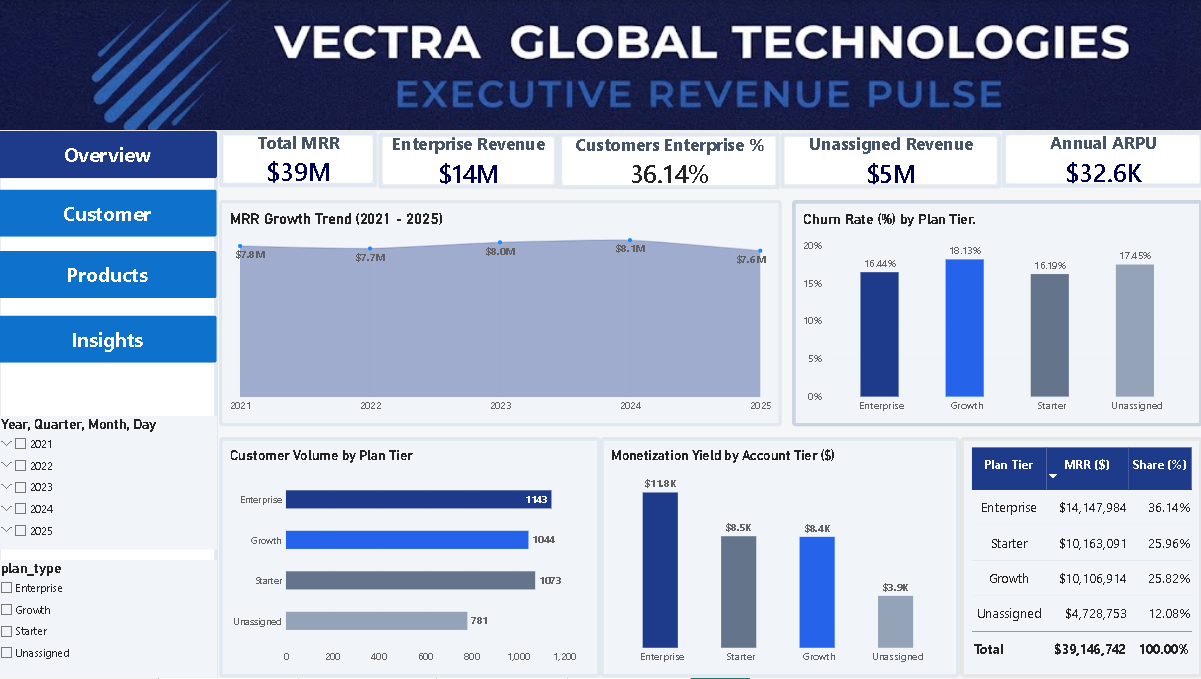

Layout of this report page (visuals, bound fields, positions):
{"tool":"powerbi","page":{"name":"Overview","canvas":[2560,1440],"ordinal":0},"visuals":[{"type":"cardVisual","fields":{"Data":["_Measures.Total MRR"]},"box":[470,280,336.7,120],"z":0},{"type":"cardVisual","fields":{"Data":["_Measures.Enterprise Customers"]},"box":[806.7,283.3,383.3,120],"z":1000},{"type":"cardVisual","fields":{"Data":["_Measures.Unassigned"]},"box":[1660,283.3,470,120],"z":2000},{"type":"image","box":[0,0,2560,280],"z":3000},{"type":"shape","box":[0,280,468.7,1160.3],"z":4000},{"type":"slicer","fields":{"Values":["vectra_analytics fact_subscriptions.signup_date.Variation.Date Hierarchy.Year","vectra_analytics fact_subscriptions.signup_date.Variation.Date Hierarchy.Quarter","vectra_analytics fact_subscriptions.signup_date.Variation.Date Hierarchy.Month","vectra_analytics fact_subscriptions.signup_date.Variation.Date Hierarchy.Day"]},"box":[0,883.3,466.7,283.3],"z":5000},{"type":"slicer","fields":{"Values":["vectra_analytics fact_subscriptions.plan_type"]},"box":[0,1190,466.7,250],"z":6000},{"type":"actionButton","box":[0,280,466.7,100],"z":7000},{"type":"actionButton","box":[0,403.3,466,100],"z":8000},{"type":"actionButton","box":[0,533.3,466,100],"z":9000},{"type":"actionButton","box":[0,670,466,100],"z":10000},{"type":"stackedAreaChart","title":"MRR Growth Trend (2021 - 2025)","fields":{"Category":["vectra_analytics fact_subscriptions.signup_date.Variation.Date Hierarchy.Year","vectra_analytics fact_subscriptions.signup_date.Variation.Date Hierarchy.Quarter","vectra_analytics fact_subscriptions.signup_date.Variation.Date Hierarchy.Month","vectra_analytics fact_subscriptions.signup_date.Variation.Date Hierarchy.Day"],"Y":["_Measures.Total MRR"]},"box":[470,426.7,1193.3,480],"z":11000},{"type":"clusteredColumnChart","title":"Churn Rate (%) by Plan Tier.","fields":{"Category":["vectra_analytics fact_subscriptions.plan_type"],"Y":["_Measures.Churn Rate %"]},"box":[1686.7,426.7,873.3,480],"z":12000},{"type":"clusteredBarChart","title":"Customer Volume by Plan Tier","fields":{"Category":["vectra_analytics fact_subscriptions.plan_type"],"Y":["Count(vectra_analytics fact_subscriptions.customer_id)"]},"box":[470,930,810,510],"z":13000},{"type":"tableEx","fields":{"Values":["vectra_analytics fact_subscriptions.plan_type","_Measures.Total MRR","_Measures.Plan_type % share"]},"box":[2043.3,930,516.7,510],"z":14000},{"type":"cardVisual","fields":{"Data":["_Measures.Average Revenue Per User"]},"box":[2130,280,430,120],"z":15000},{"type":"clusteredColumnChart","title":"Monetization Yield by Account Tier ($)","fields":{"Category":["vectra_analytics fact_subscriptions.plan_type"],"Y":["_Measures.Annual ARPU"]},"box":[1280,930,763.3,510],"z":16000},{"type":"cardVisual","fields":{"Data":["_Measures.Customers Enterprise %"]},"box":[1190,283.3,470,120],"z":17000}]}

Visuals, with their boxes in screenshot pixels (x1, y1, x2, y2), scaled from the page's 2560x1440 canvas onto the 1201x679 screenshot:
cardVisual - _Measures.Total MRR: [220, 132, 378, 189]
cardVisual - _Measures.Enterprise Customers: [378, 134, 558, 190]
cardVisual - _Measures.Unassigned: [779, 134, 999, 190]
image: [0, 0, 1200, 132]
shape: [0, 132, 220, 678]
slicer - vectra_analytics fact_subscriptions.signup_date.Variation.Date Hierarchy.Year x vectra_analytics fact_subscriptions.signup_date.Variation.Date Hierarchy.Quarter: [0, 417, 219, 550]
slicer - vectra_analytics fact_subscriptions.plan_type: [0, 561, 219, 678]
actionButton: [0, 132, 219, 179]
actionButton: [0, 190, 219, 237]
actionButton: [0, 251, 219, 299]
actionButton: [0, 316, 219, 363]
"MRR Growth Trend (2021 - 2025)" stackedAreaChart: [220, 201, 780, 428]
"Churn Rate (%) by Plan Tier." clusteredColumnChart: [791, 201, 1200, 428]
"Customer Volume by Plan Tier" clusteredBarChart: [220, 439, 600, 678]
tableEx - vectra_analytics fact_subscriptions.plan_type x _Measures.Total MRR: [959, 439, 1200, 678]
cardVisual - _Measures.Average Revenue Per User: [999, 132, 1200, 189]
"Monetization Yield by Account Tier ($)" clusteredColumnChart: [600, 439, 959, 678]
cardVisual - _Measures.Customers Enterprise %: [558, 134, 779, 190]
